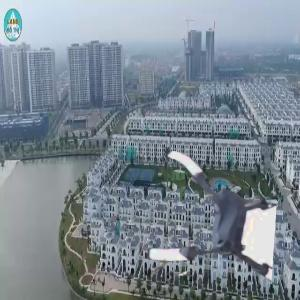drone: (144, 147, 277, 280)
